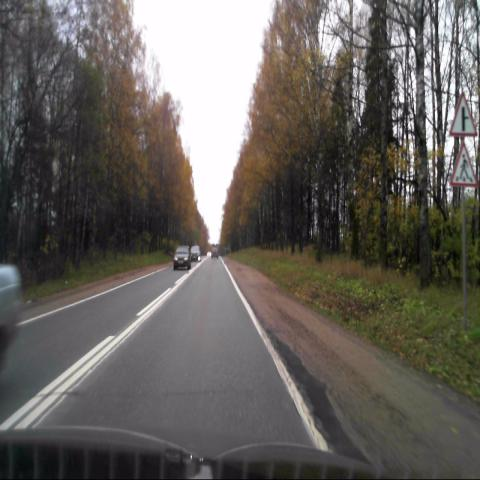1_22: (451, 143, 477, 187)
2_3_2: (450, 92, 478, 137)
